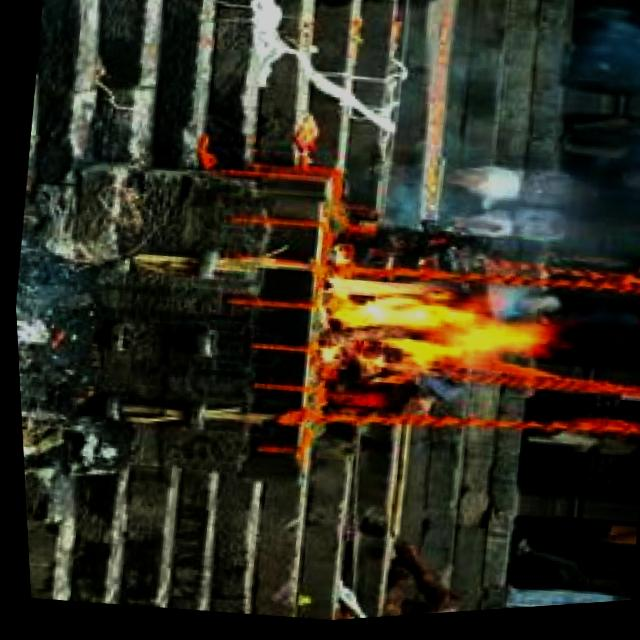Fire: (306, 258, 569, 412)
